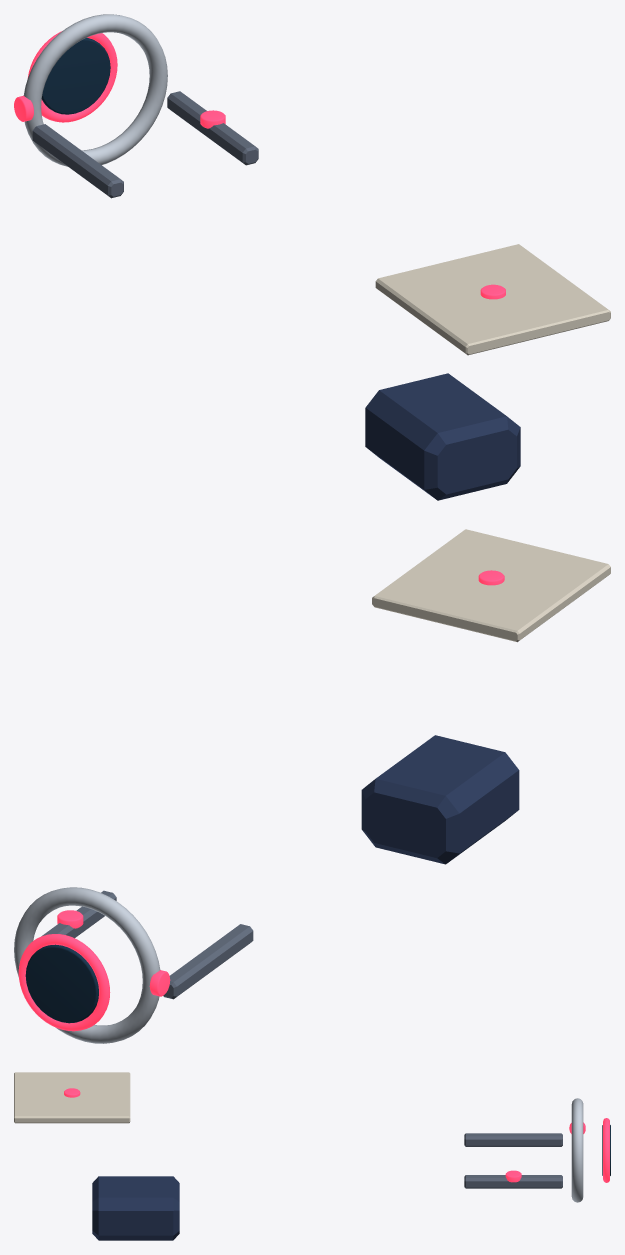
File: tower_filament_peak_s6.glb
3 views of the same model, one above another, from view 1: azimuth 30°, elevation 25°; view 2: azimuth 150°, elevation 25°; view 3: azimuth 270°, elevation 25° (orthographic). The views are drawn at different scales.
Visible parts, largest first — view 1: filament_dielectric, filament_coupler, filament_aperture_ring, filament_lens_b, filament_lens_brace_r, filament_lens_brace_l, filament_lens_b_ring; view 2: filament_dielectric, filament_coupler, filament_aperture_ring, filament_lens_b, filament_lens_b_ring, filament_lens_brace_r, filament_lens_brace_l; view 3: filament_dielectric, filament_coupler, filament_lens_brace_r, filament_aperture_ring, filament_lens_brace_l, filament_lens_b_ring.
Part boxes in pixels (x1=…): filament_dielectric: x1=375, y1=244, x2=610, y2=355; filament_coupler: x1=365, y1=373, x2=520, y2=500; filament_aperture_ring: x1=23, y1=14, x2=167, y2=166; filament_lens_b: x1=41, y1=38, x2=110, y2=114; filament_lens_brace_r: x1=32, y1=124, x2=123, y2=198; filament_lens_brace_l: x1=167, y1=91, x2=258, y2=165; filament_lens_b_ring: x1=27, y1=31, x2=117, y2=122; filament_dielectric: x1=372, y1=529, x2=610, y2=642; filament_coupler: x1=361, y1=735, x2=519, y2=864; filament_aperture_ring: x1=14, y1=887, x2=160, y2=1043; filament_lens_b: x1=25, y1=944, x2=98, y2=1023; filament_lens_b_ring: x1=18, y1=934, x2=110, y2=1031; filament_lens_brace_r: x1=163, y1=924, x2=253, y2=999; filament_lens_brace_l: x1=41, y1=890, x2=116, y2=938; filament_dielectric: x1=14, y1=1072, x2=130, y2=1123; filament_coupler: x1=92, y1=1176, x2=179, y2=1240; filament_lens_brace_r: x1=464, y1=1133, x2=562, y2=1146; filament_aperture_ring: x1=571, y1=1098, x2=583, y2=1202; filament_lens_brace_l: x1=464, y1=1175, x2=562, y2=1188; filament_lens_b_ring: x1=603, y1=1118, x2=609, y2=1182.
Bounding box in the file's own units: 0.389 × 0.5282 × 2.06.
